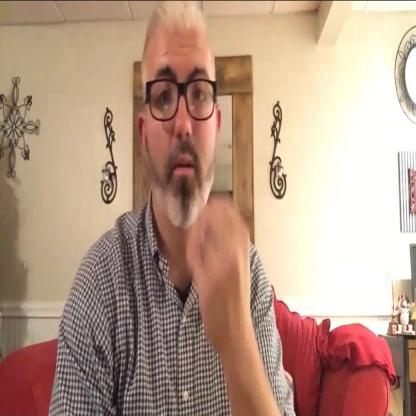Food: (138, 0, 270, 374)
